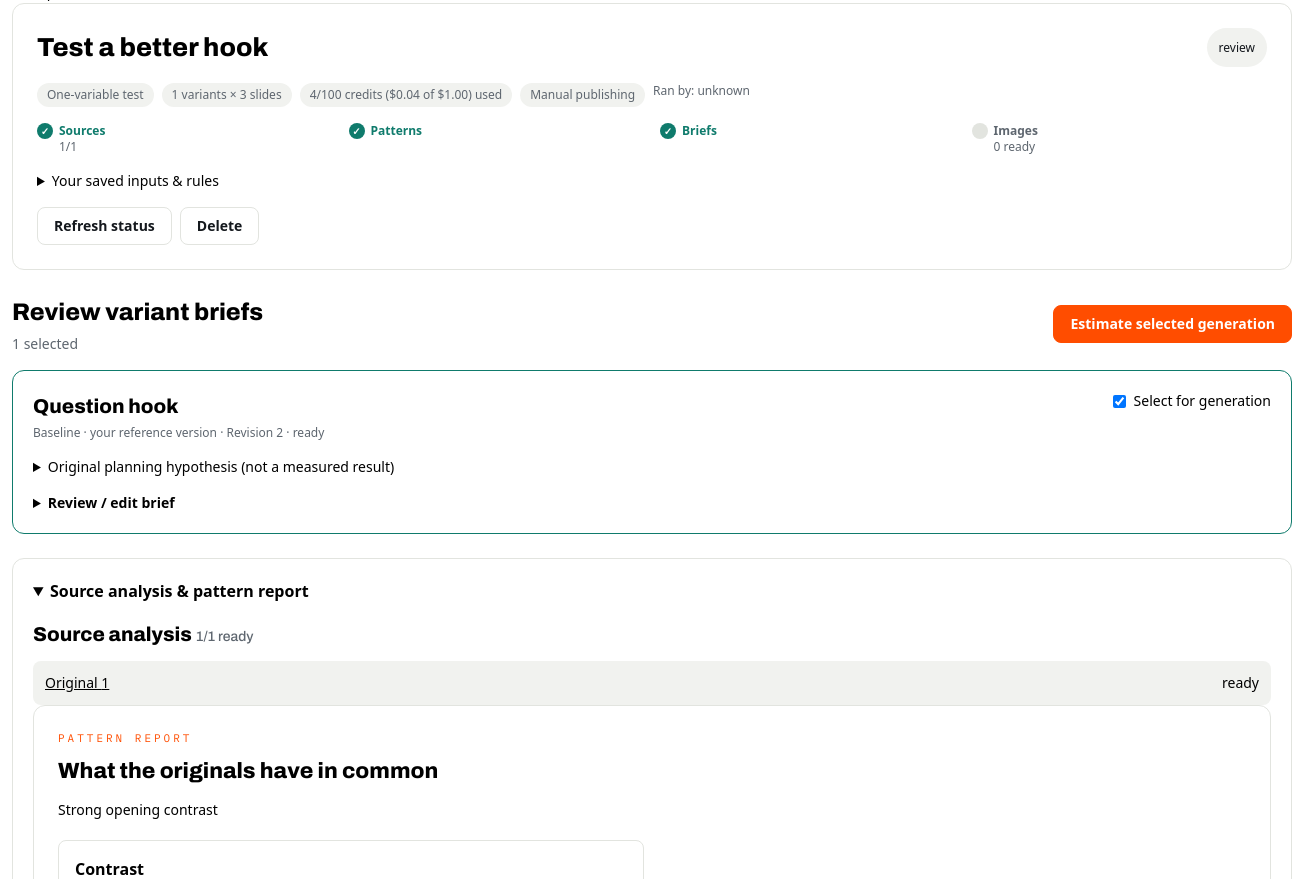
it: blocks when the workspace wallet cannot cover the estimate
Expected: the heading "Question hook" is shown, [33,395,178,417]
Click the button "Estimate selected generation" at point(1173, 324), box [1054,305,1292,343]
(page scrolled)
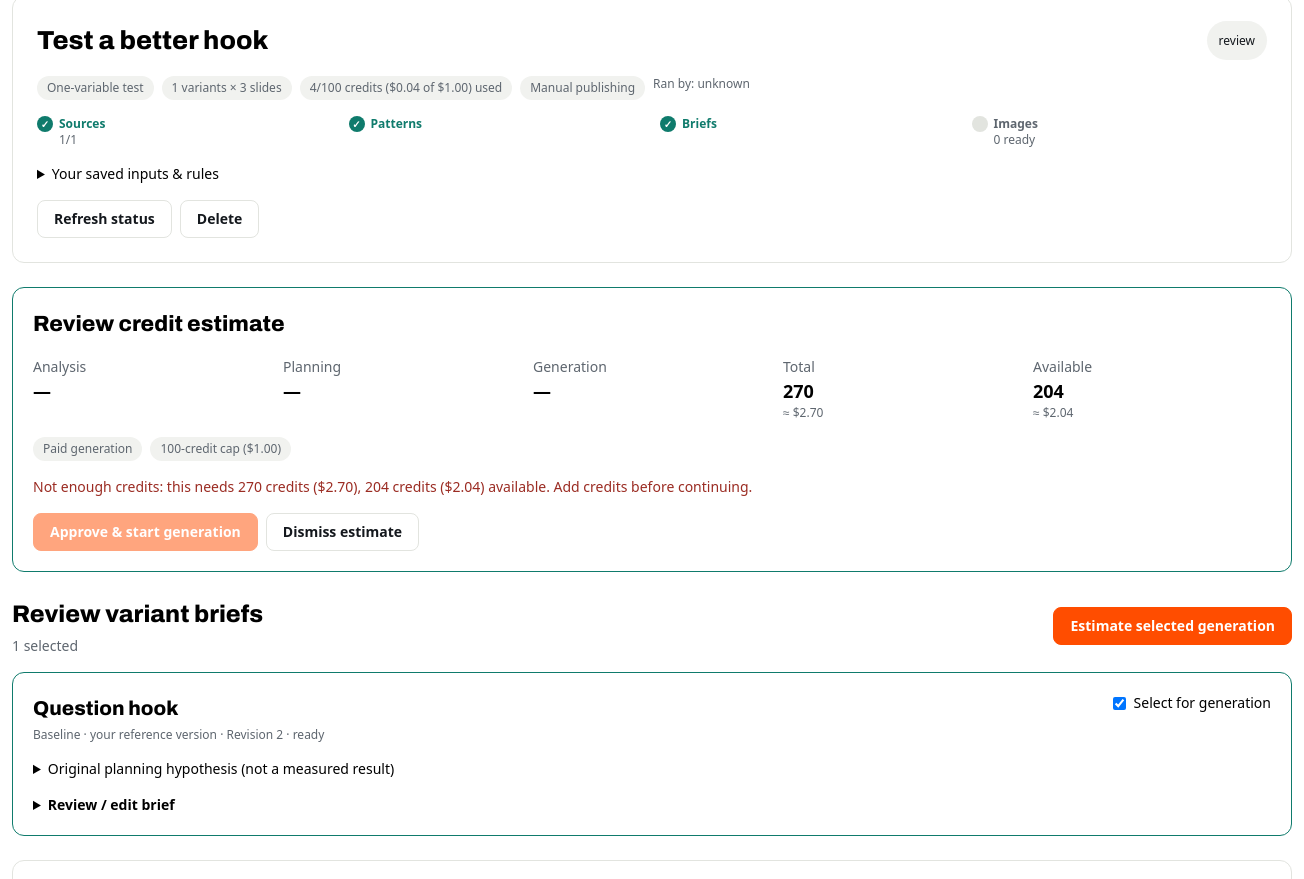
Result: the button "Approve & start generation" is disabled at [33,513,258,551]
Result: the element showing "204 ≈ $2.04" is shown at [1033,379,1073,421]
Result: the text "Not enough credits" is shown at [33,477,752,496]
